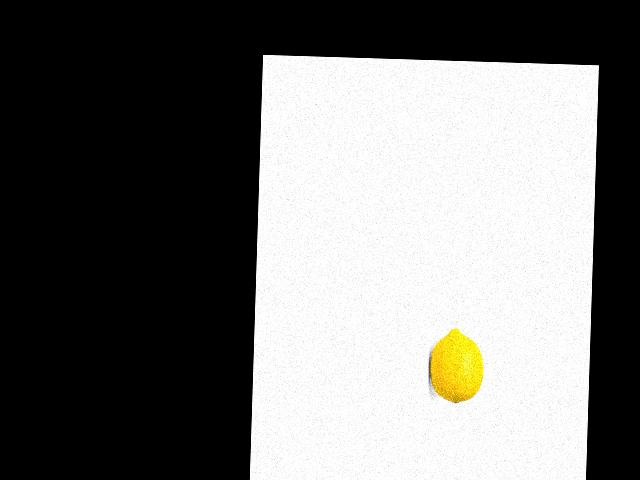lemon: (428, 325, 483, 407)
